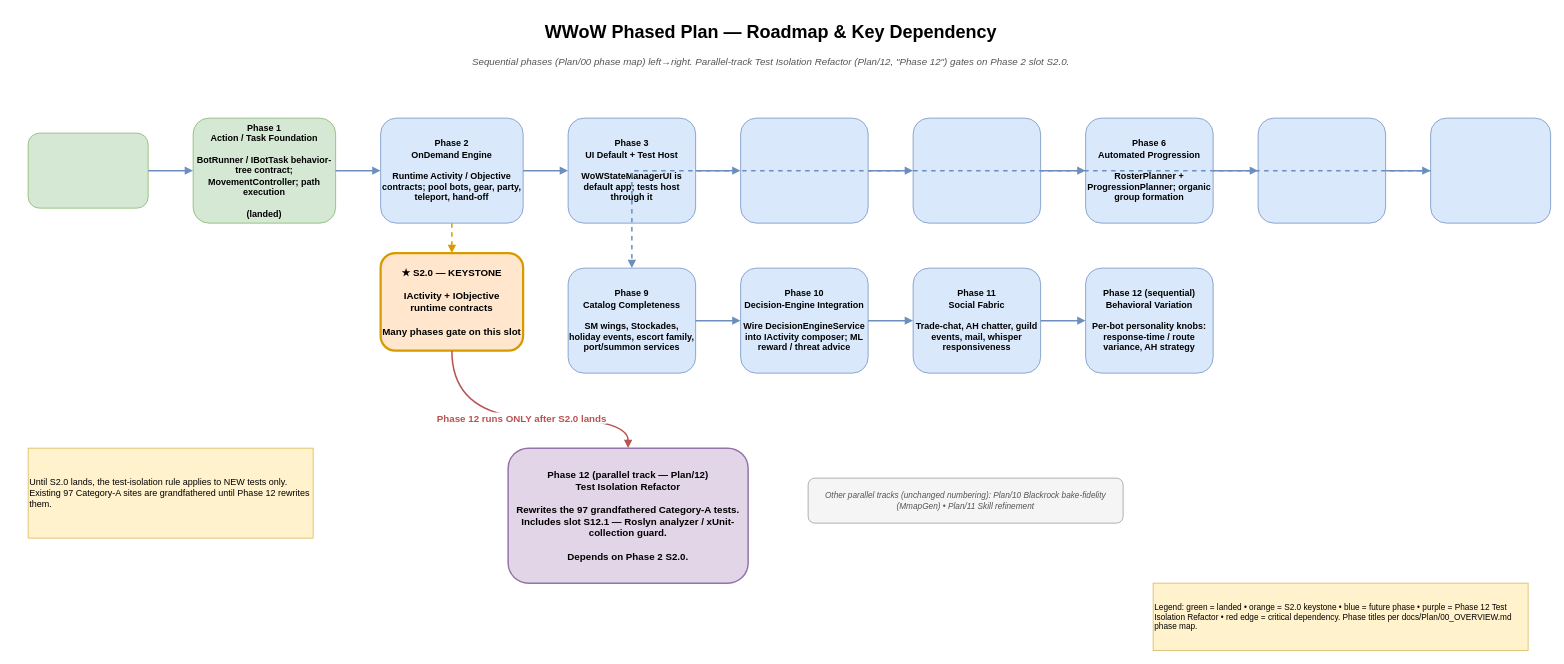
Image size: 1564x664. Some labels were removed from this diagram. Here are the shapes that lost their labels. From the top down, the centre of each, then its label:
point 87,170: Phase 0 Spec Hardening (landed 2026-05-12)
point 804,170: Phase 4 Activity Registry Catalog lookups + autonomous-mode legality validator
point 976,170: Phase 5 Observability Meters, Grafana, derived counters, history panel
point 1321,170: Phase 7 Pathfinding / Scene Scale Route packs, batch queries, sharding
point 1490,170: Phase 8 Living-server Load Iterative: 80 → measure → optimize → re-measure
